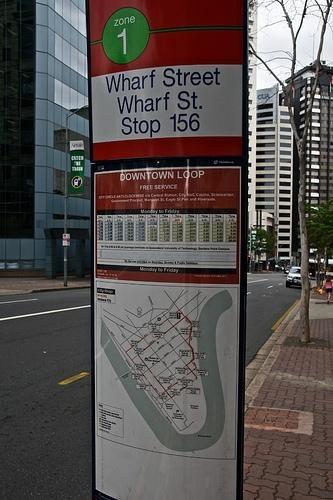car: (286, 266, 302, 288)
truck: (285, 266, 302, 288), (275, 262, 285, 270)
